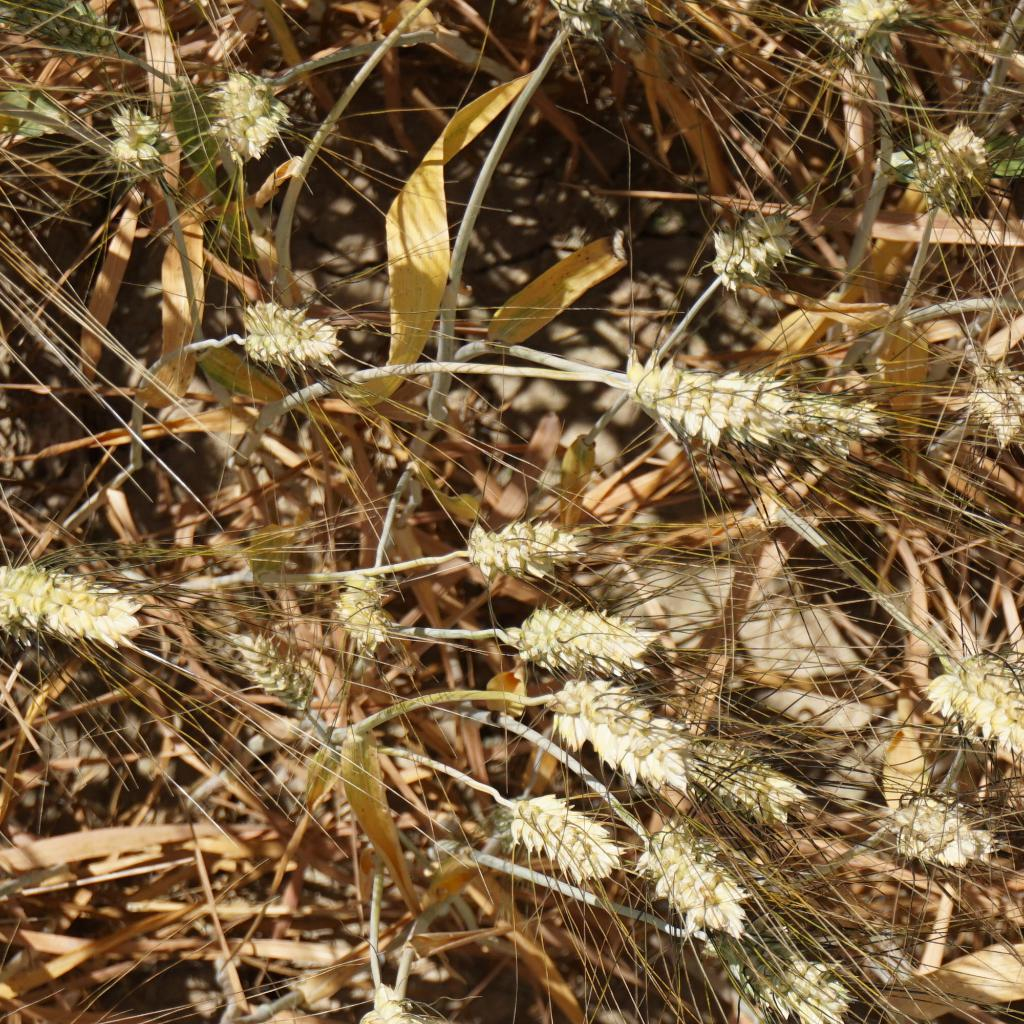0-0: (667, 352, 882, 442), (555, 673, 691, 785), (624, 358, 785, 449), (929, 633, 1024, 785), (635, 828, 758, 937), (0, 545, 134, 640), (889, 770, 998, 874), (507, 614, 663, 685), (746, 917, 850, 1021), (681, 722, 795, 815), (208, 297, 354, 364), (504, 789, 616, 876), (905, 110, 1006, 204), (222, 620, 325, 709), (466, 516, 604, 581), (963, 348, 1024, 456), (106, 90, 175, 177), (218, 60, 283, 151), (714, 216, 803, 281), (334, 570, 399, 647), (832, 0, 925, 47), (356, 984, 464, 1024)
